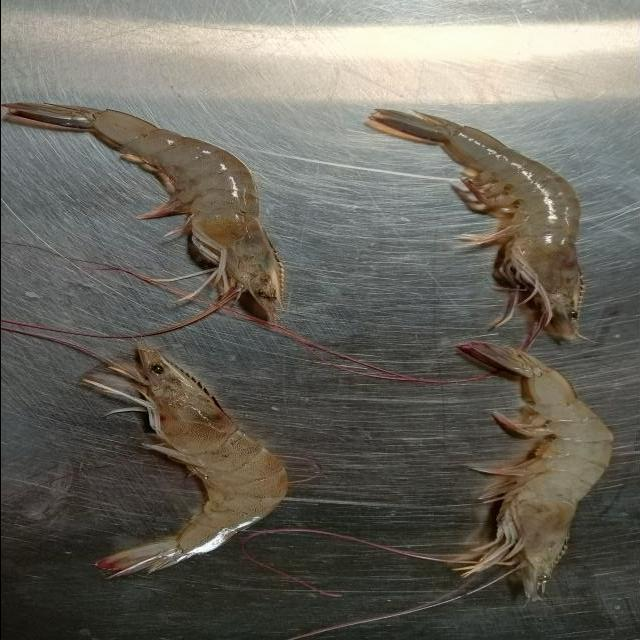shrimp: (3, 102, 283, 330), (367, 108, 585, 347), (94, 338, 289, 579), (454, 342, 613, 604)
